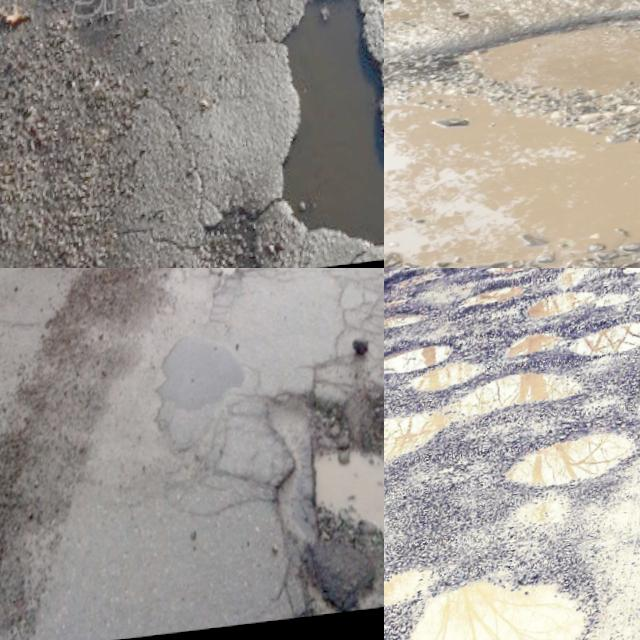Potholes: (384, 0, 640, 268), (224, 0, 384, 268), (384, 479, 640, 640), (272, 348, 384, 591), (473, 285, 640, 436), (384, 299, 459, 430), (150, 268, 295, 331), (0, 268, 153, 327), (475, 268, 611, 324), (384, 268, 465, 317), (566, 268, 640, 320)
